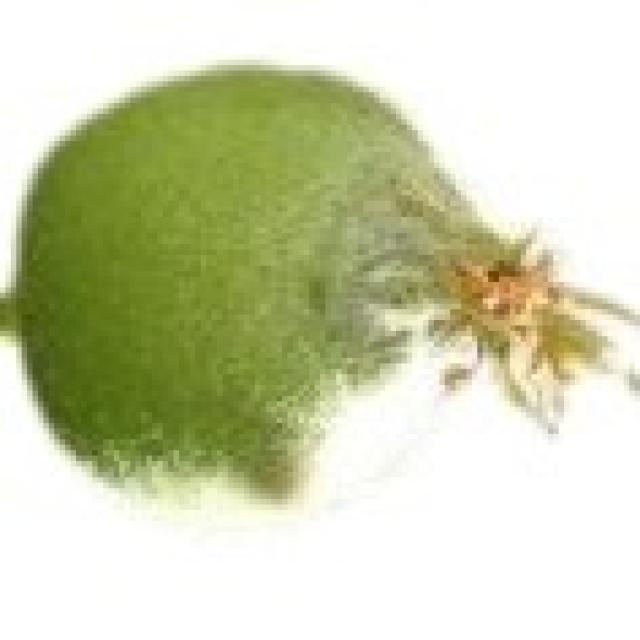20-_ripeness: (19, 58, 616, 520)
